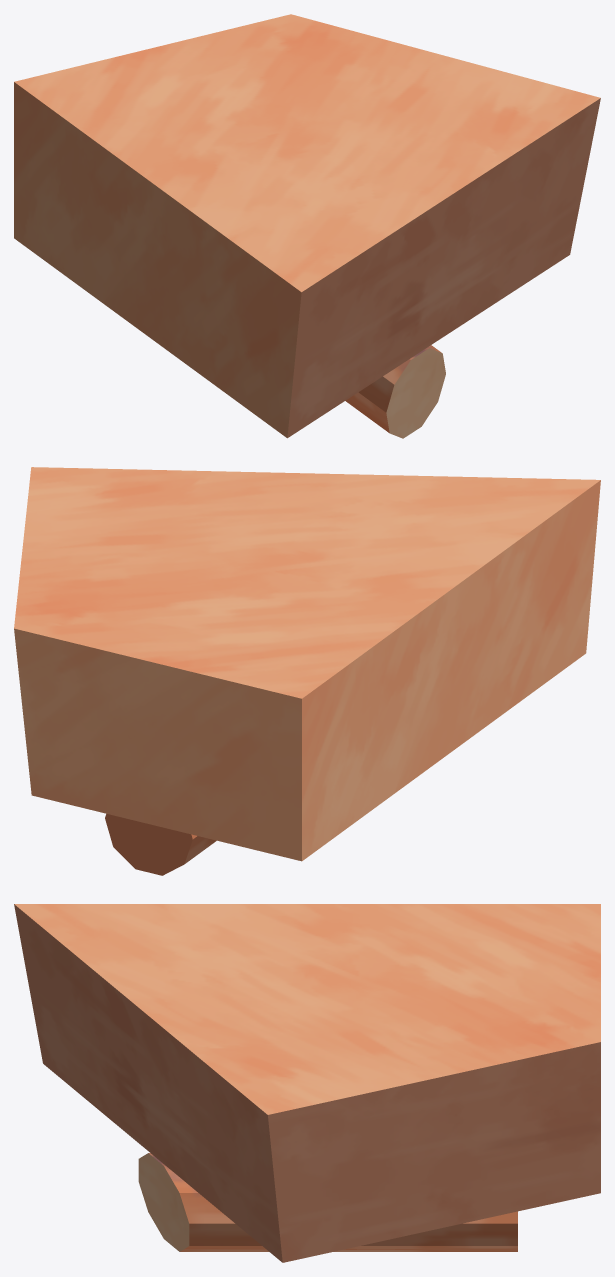
The model's file is roof_s06.fbx.
3 renders of one model, top to bottom at view 1: azimuth 30°, elevation 25°; view 2: azimuth 150°, elevation 25°; view 3: azimuth 270°, elevation 25°, orthographic. The views are drawn at different scales.
Visible parts, largest first — view 1: roof_s06; view 2: roof_s06; view 3: roof_s06.
Boxes of the visible parts, left/top/right/bottom form: roof_s06: left=14, top=14, right=600, bottom=438; roof_s06: left=14, top=467, right=600, bottom=875; roof_s06: left=14, top=904, right=600, bottom=1262.
Bounding box in the file's own units: 3 × 1.65 × 3.53.
